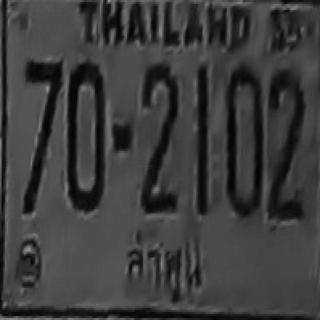N00: (223, 64, 262, 215), (66, 61, 105, 210)
N01: (195, 64, 208, 185)
N02: (267, 69, 304, 194), (142, 63, 177, 186), (140, 94, 177, 210)
N07: (24, 59, 63, 160)
P21: (122, 237, 210, 306)
